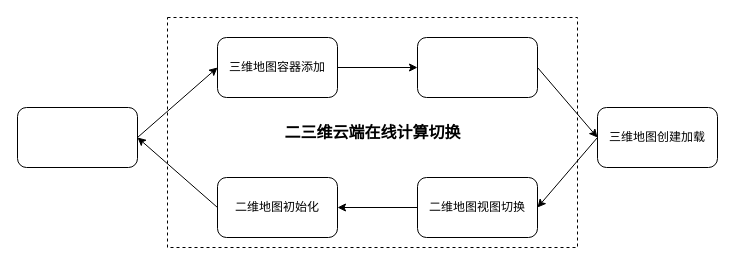
Some shapes in this 735 by 265 pixel diagram are drawn without their labels. Each missing label, with the centre of its shape:
三维模型标绘初始化: (x=477, y=67)
二维地图创建加载: (x=77, y=137)
